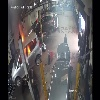fire: (18, 23, 37, 53)
